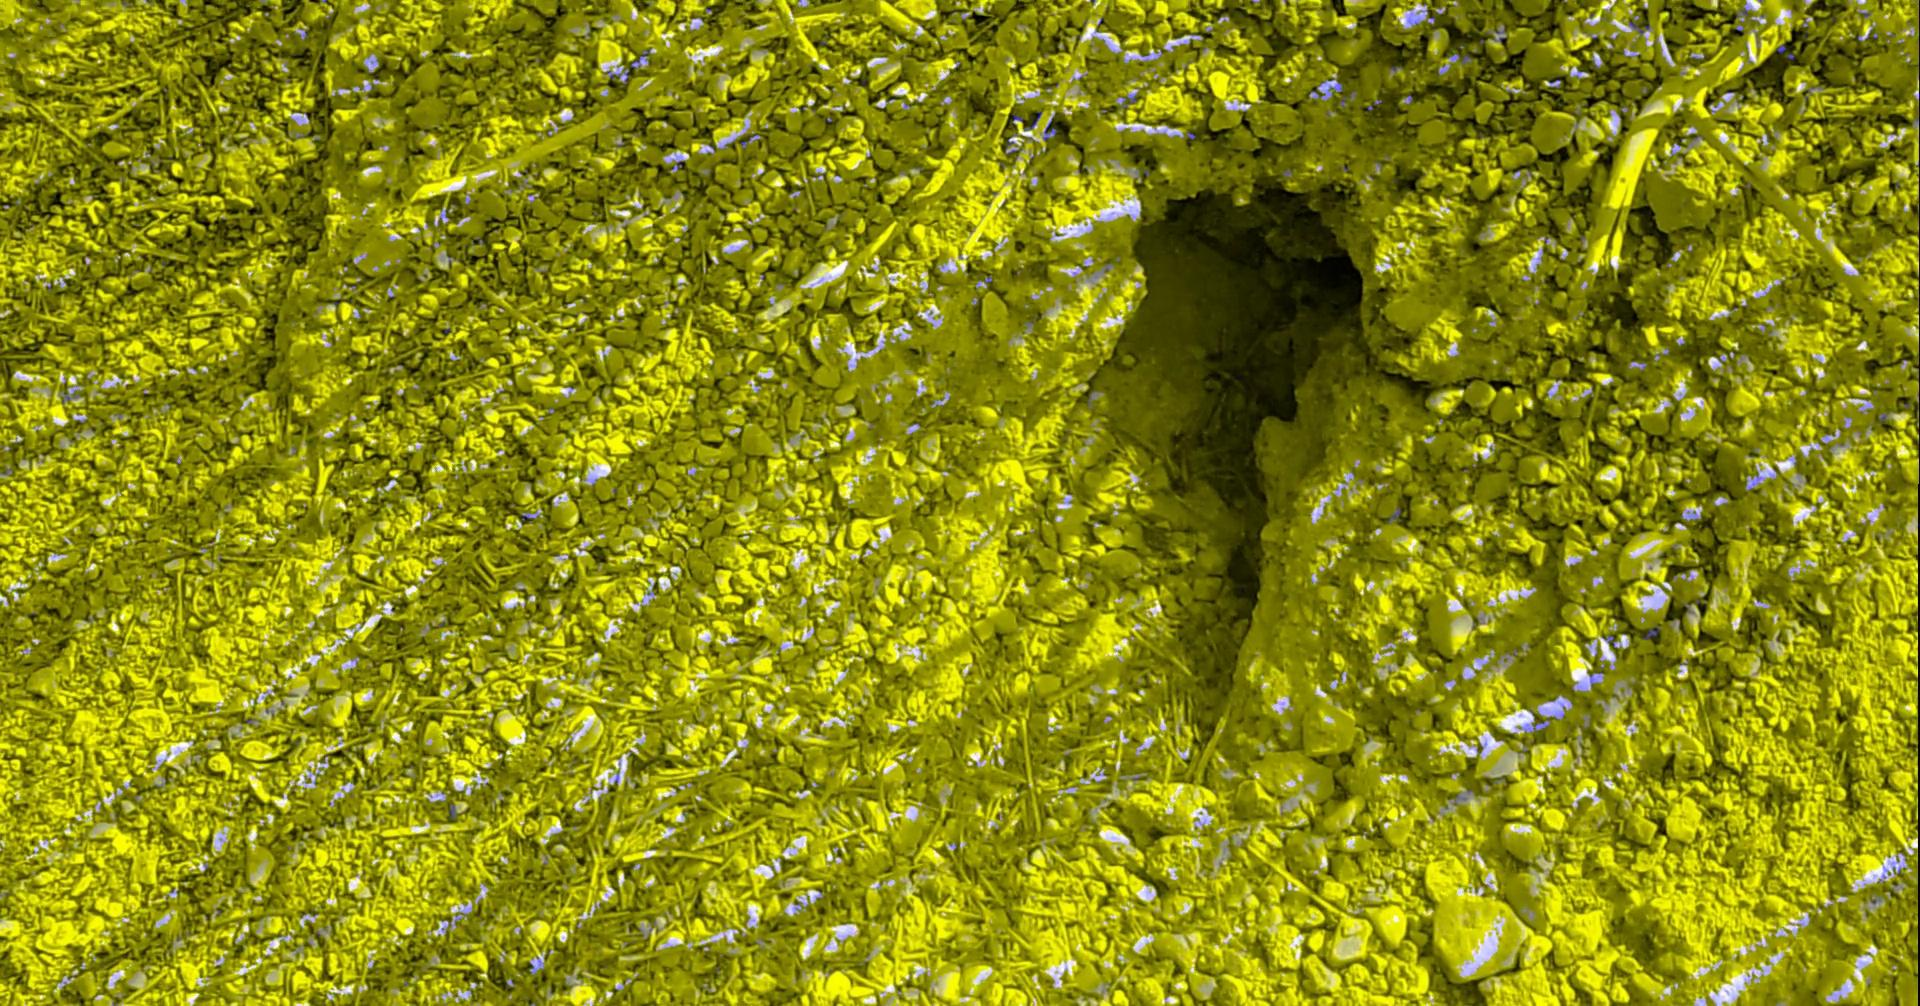ant: (1045, 116, 1058, 140), (1643, 625, 1661, 639)
